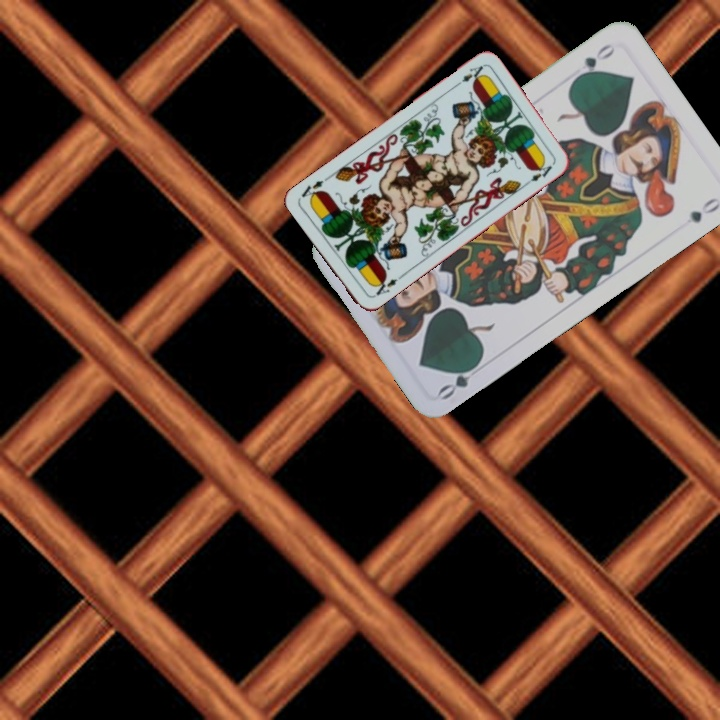EA: (369, 271, 405, 300), (450, 61, 486, 90)
GO: (434, 356, 483, 403), (570, 39, 617, 83)
